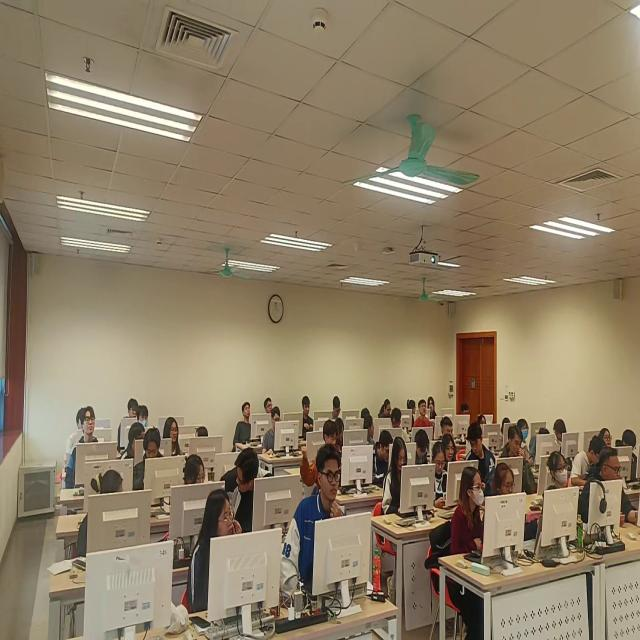raise_head: (283, 444, 345, 602), (187, 488, 240, 614), (449, 466, 488, 576), (66, 407, 104, 487), (543, 450, 573, 519), (117, 397, 140, 446), (234, 399, 254, 447), (417, 399, 434, 433), (598, 421, 614, 454), (135, 400, 151, 432), (518, 417, 531, 442), (427, 396, 438, 419), (264, 398, 275, 418)
using_computer: (579, 447, 640, 529), (381, 436, 413, 523), (499, 426, 536, 496), (133, 426, 167, 492), (487, 460, 520, 516), (573, 432, 605, 482), (372, 429, 396, 487), (312, 420, 337, 472), (262, 407, 288, 456), (410, 426, 432, 480), (616, 425, 640, 474), (531, 425, 551, 466), (299, 395, 317, 434), (442, 433, 458, 475), (334, 418, 348, 450), (442, 417, 457, 444), (378, 397, 394, 421), (500, 417, 512, 446), (331, 396, 344, 422), (460, 401, 472, 426), (478, 414, 490, 430), (361, 407, 371, 422)
using_phone: (429, 441, 452, 508)
